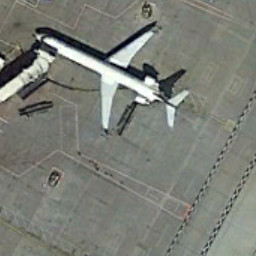Airplane: (21, 15, 197, 144)
